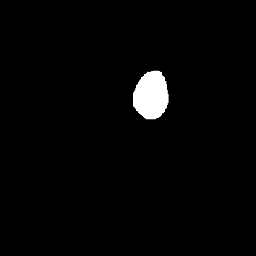mass: (137, 71, 169, 117)
